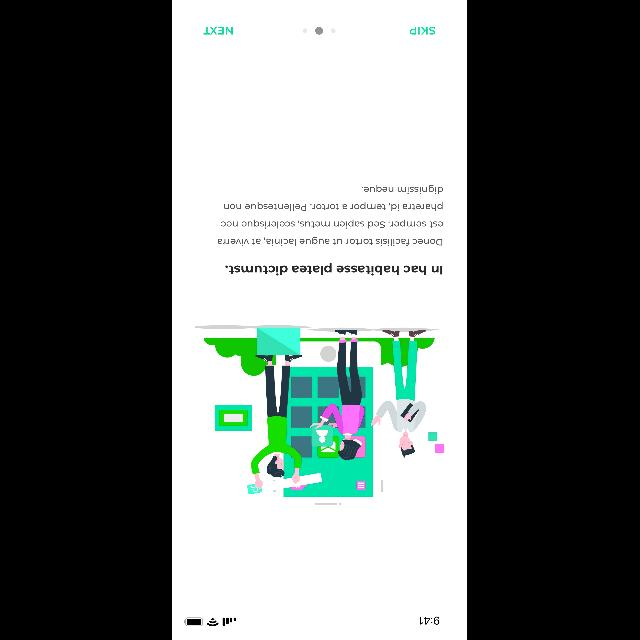image: (195, 325, 445, 505)
pageindicator: (304, 27, 336, 35)
text: (218, 184, 444, 246), (225, 262, 442, 276), (204, 27, 233, 35), (410, 27, 436, 35)
uppertaskbar: (184, 616, 440, 626)
